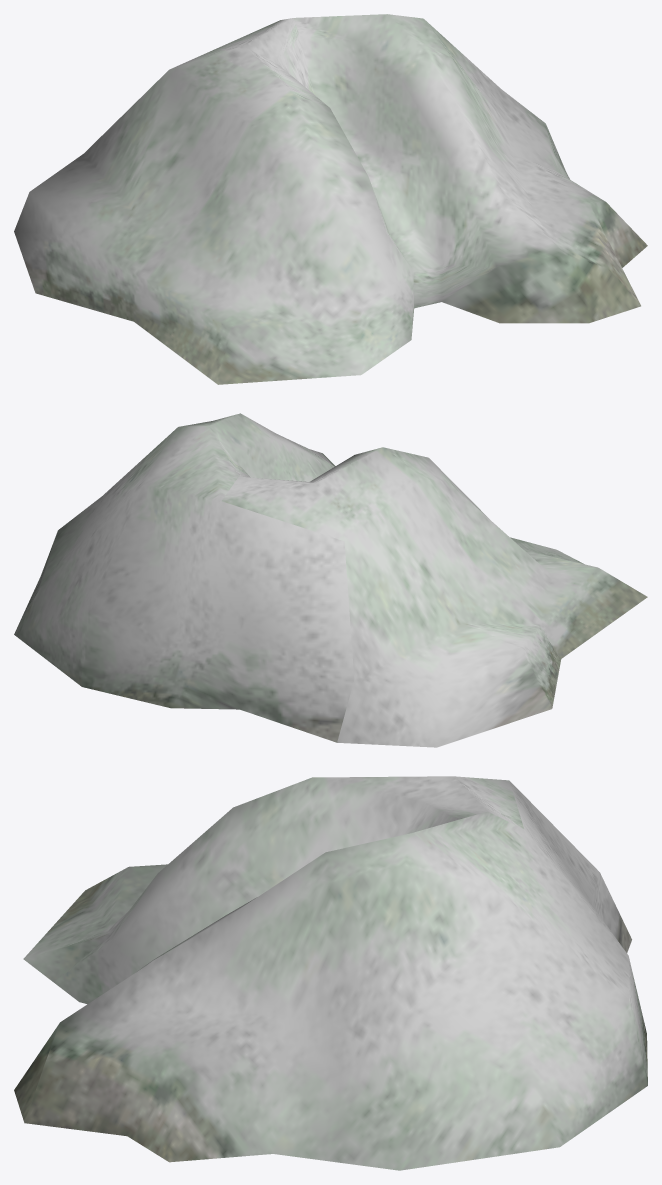
File: general_obj_stone13.fbx
3 views of the same model, one above another, from view 1: azimuth 30°, elevation 25°; view 2: azimuth 150°, elevation 25°; view 3: azimuth 270°, elevation 25° (orthographic). The views are drawn at different scales.
Visible parts, largest first — view 1: Sphere01; view 2: Sphere01; view 3: Sphere01.
Part boxes in pixels (x1,y1,x2,y2): Sphere01: (14,14,647,384); Sphere01: (14,413,647,747); Sphere01: (14,776,647,1170).
Bounding box in the file's own units: 7.83 × 2.81 × 6.86.
